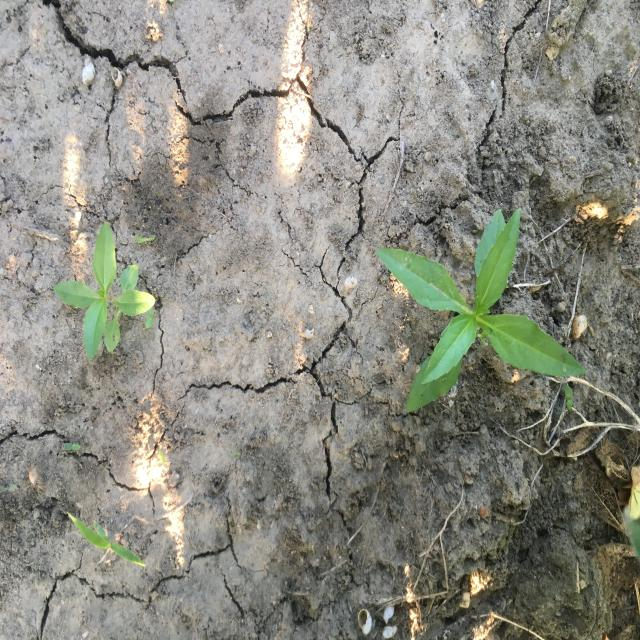Eclipta: (373, 206, 586, 414), (51, 220, 156, 362)
